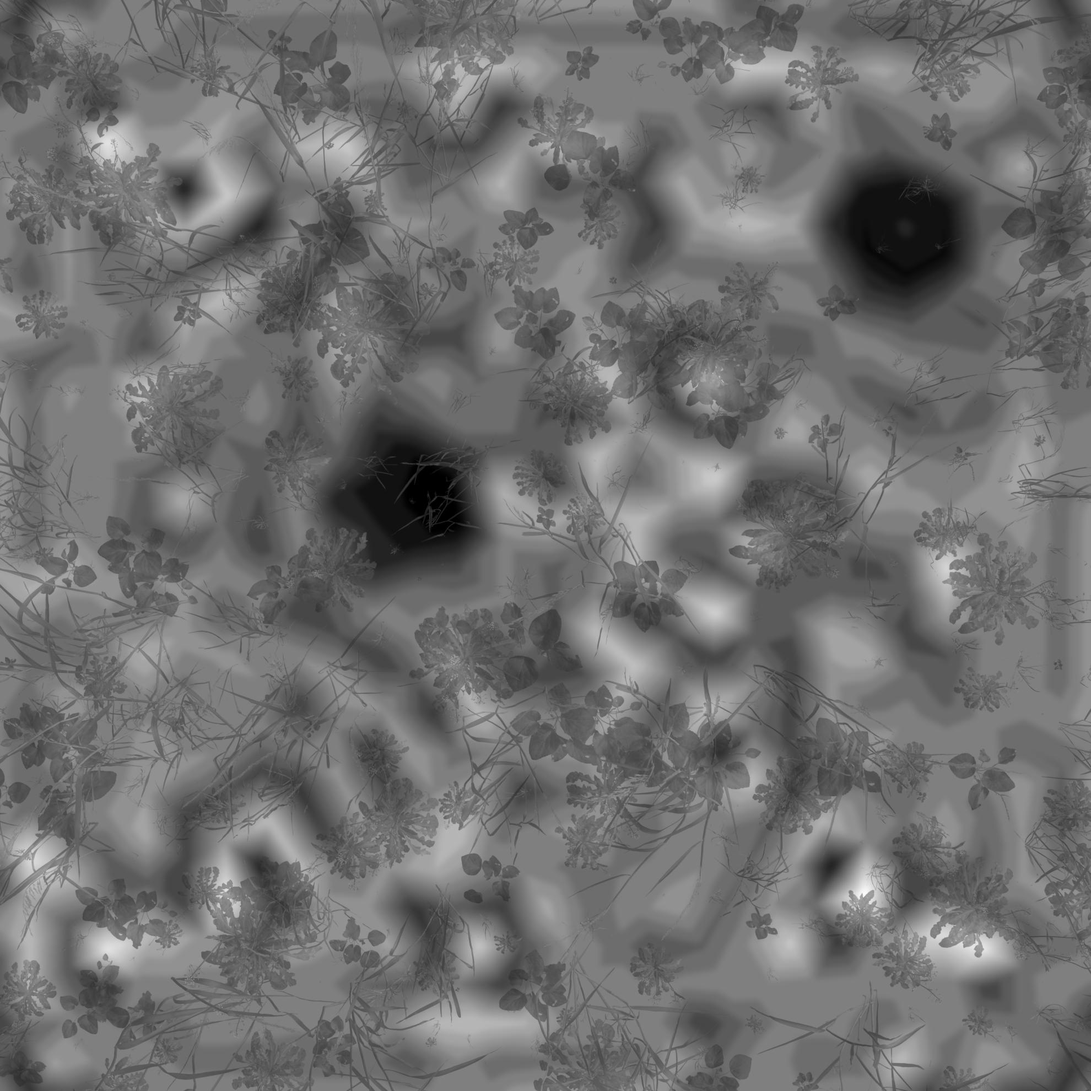landmine: (333, 433, 491, 580), (831, 164, 967, 292)
